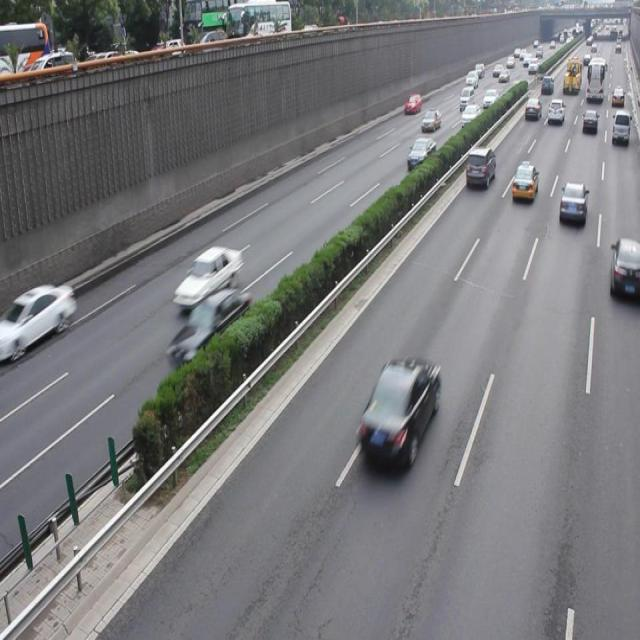car: (357, 353, 440, 468), (168, 286, 252, 362), (1, 284, 76, 361), (172, 242, 243, 311), (608, 235, 640, 302), (557, 180, 586, 224), (406, 135, 436, 173), (510, 162, 538, 202)
truck: (464, 144, 494, 187)
